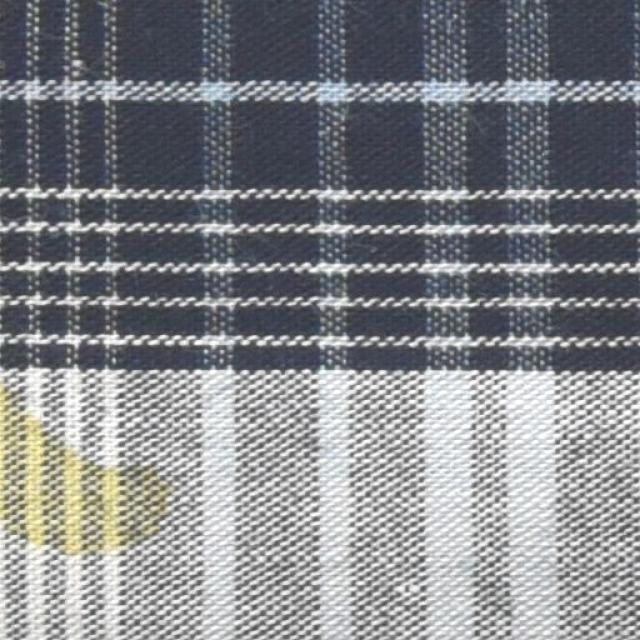Stain: (6, 383, 176, 556)
